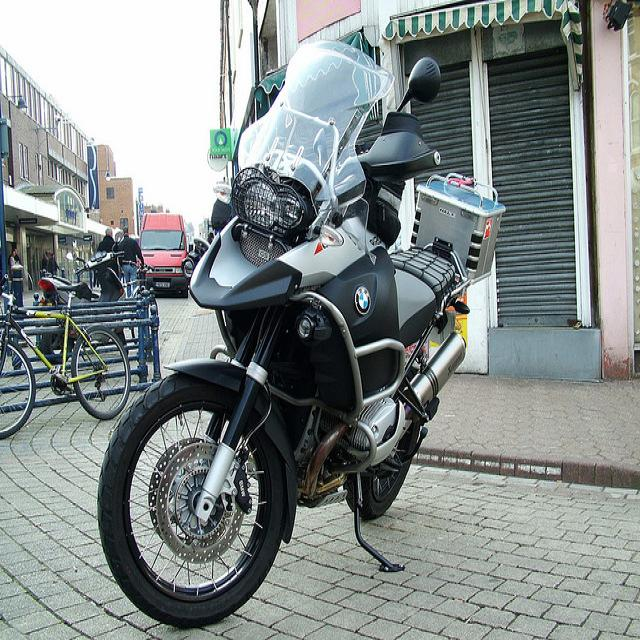motor: (97, 39, 494, 629), (36, 250, 126, 354)
